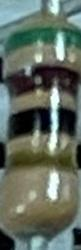Black: (8, 106, 77, 144)
Brown: (6, 64, 80, 99)
Green: (5, 28, 80, 59)
Side-Gold: (5, 152, 77, 176)
